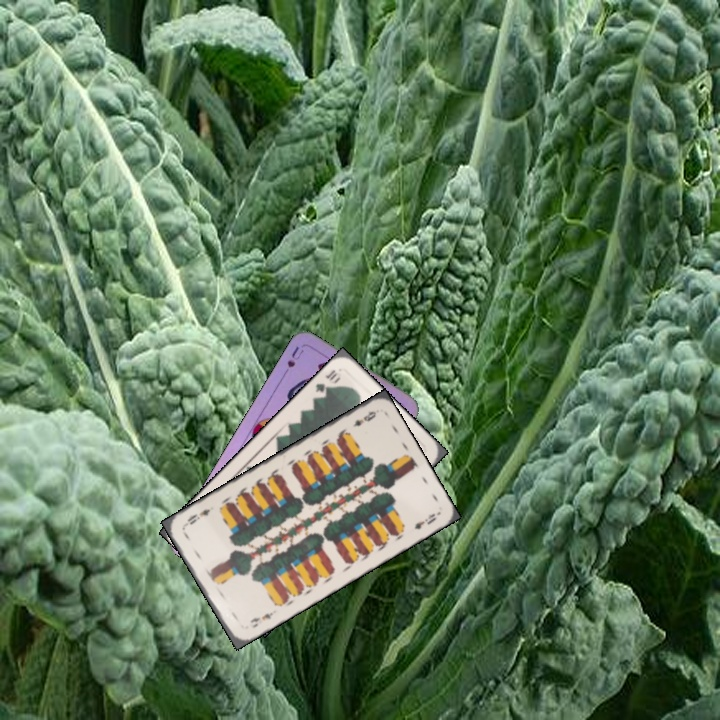E9: (348, 407, 379, 430), (246, 608, 276, 630)
G10: (311, 366, 340, 396)
SU: (278, 342, 306, 380)
